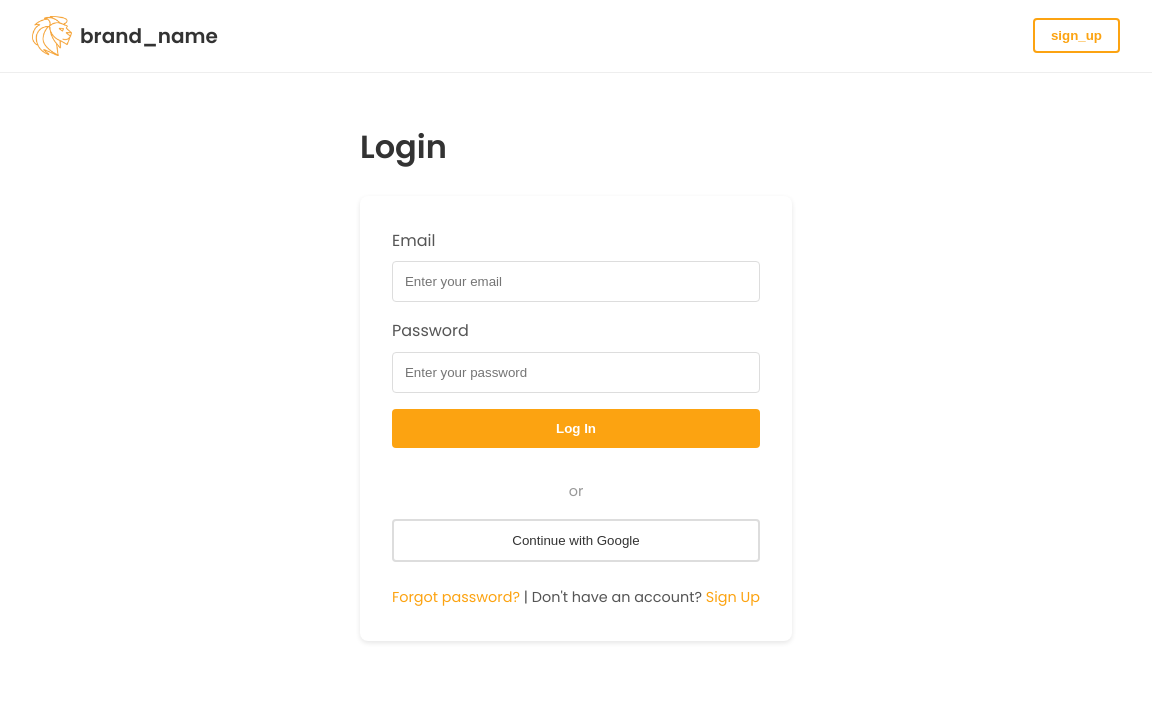
Test: <LoginPage /> › shows error when Google sign-in fails
The image size is (1152, 720).
Click the button "Continue with Google".
click(576, 541)  # box [392,519,760,562]
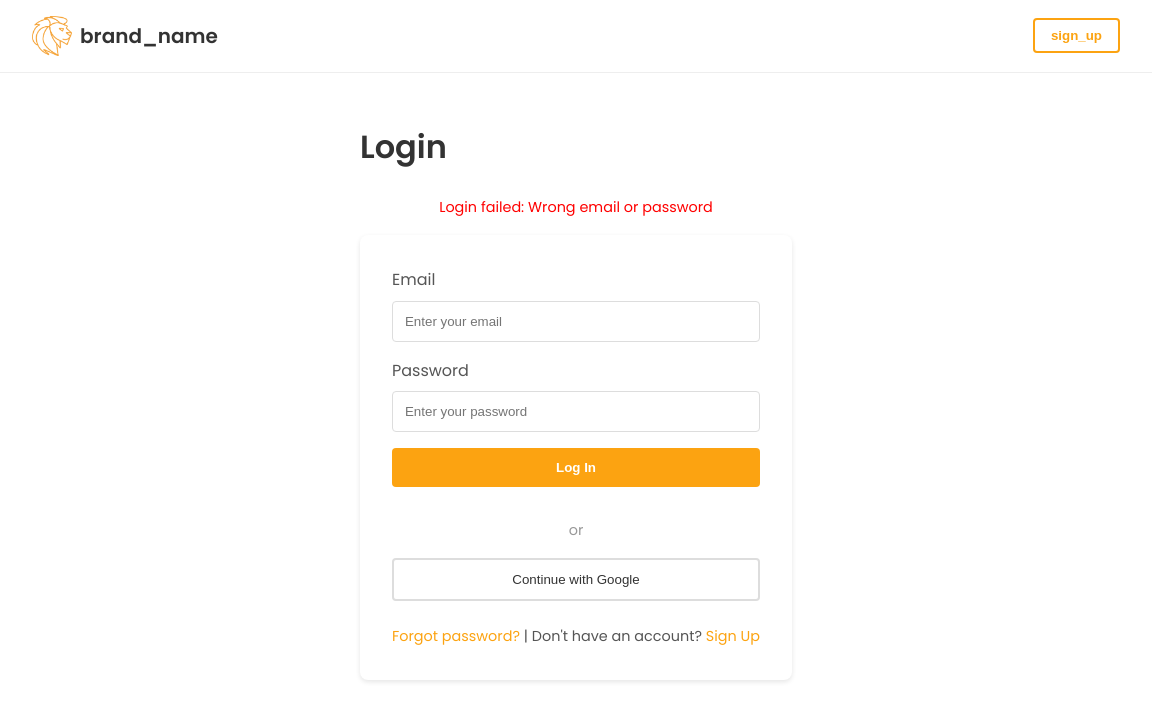
expect the text "Login failed: Wrong email or password" is shown: met, box [439,197,713,217]
